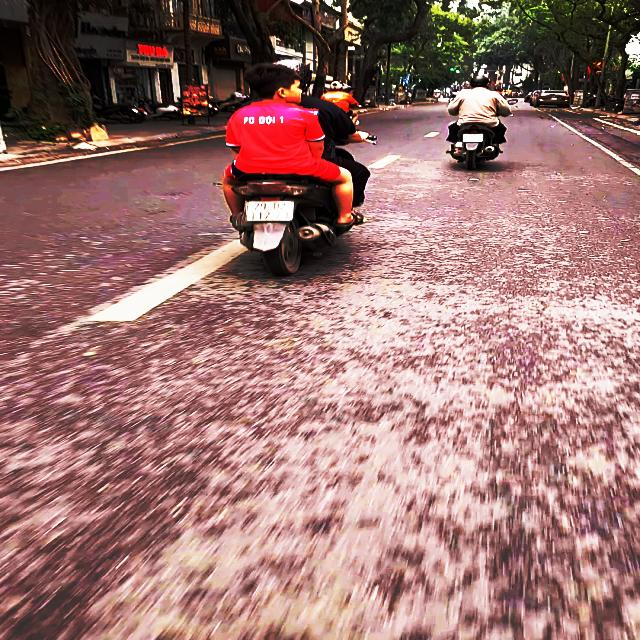license_plate: (240, 200, 297, 224)
